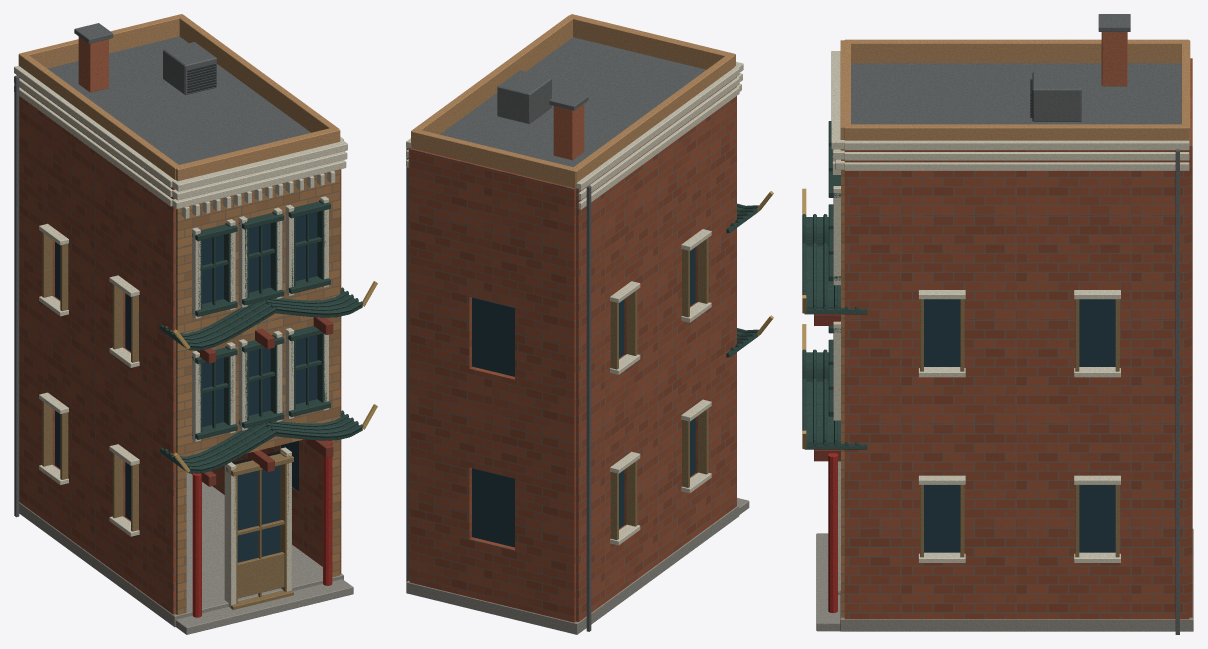
Rendered from CHINA15_lod1.glb.
3 views of the same model, side by side, from view 1: azimuth 30°, elevation 25°; view 2: azimuth 150°, elevation 25°; view 3: azimuth 270°, elevation 25° (orthographic). The views are drawn at different scales.
Visible parts, largest first — view 1: CHINA15_LOD1; view 2: CHINA15_LOD1; view 3: CHINA15_LOD1.
Boxes of the visible parts, x1,y1,x2,y2 form: CHINA15_LOD1: [14, 14, 377, 634]; CHINA15_LOD1: [406, 14, 773, 634]; CHINA15_LOD1: [802, 14, 1193, 634].
Bounding box in the file's own units: 4.49 × 10.45 × 6.81.
Materials: 15 (12 with a texture image).
